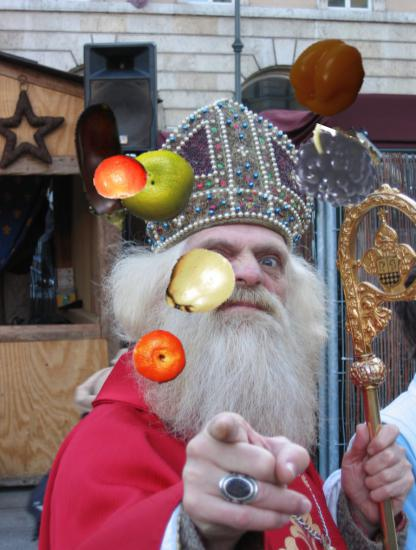Clementine: (93, 148, 150, 205), (132, 330, 188, 386)
Eggplant: (34, 101, 171, 238)
Ginger: (316, 123, 382, 189)
Mulberry: (277, 130, 375, 228)
Pepper: (287, 36, 368, 117)
Pomelo: (118, 147, 198, 227)
Quince: (162, 246, 236, 320)
